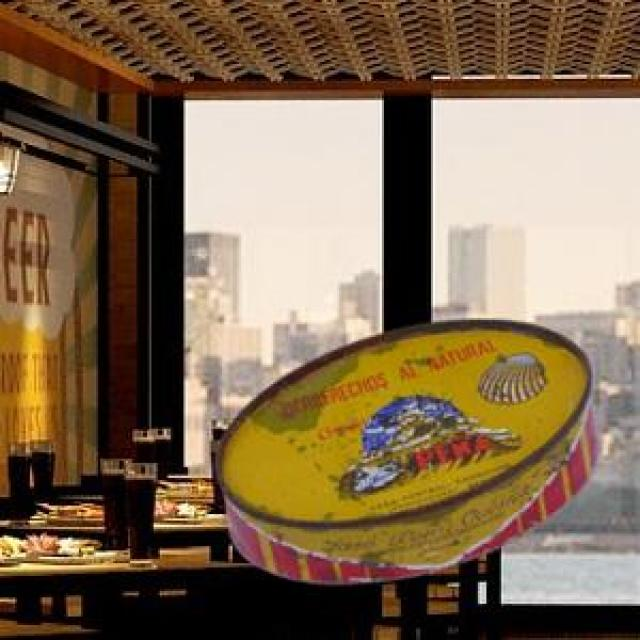logam: (212, 317, 594, 581)
